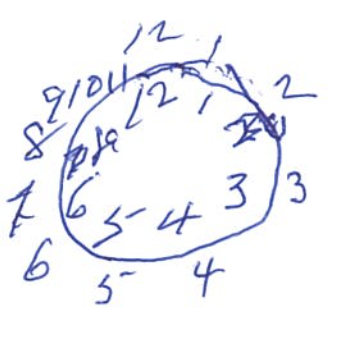12: (125, 81, 179, 130), (123, 19, 184, 54)
2: (273, 73, 321, 101)
contour: (57, 60, 284, 264)
